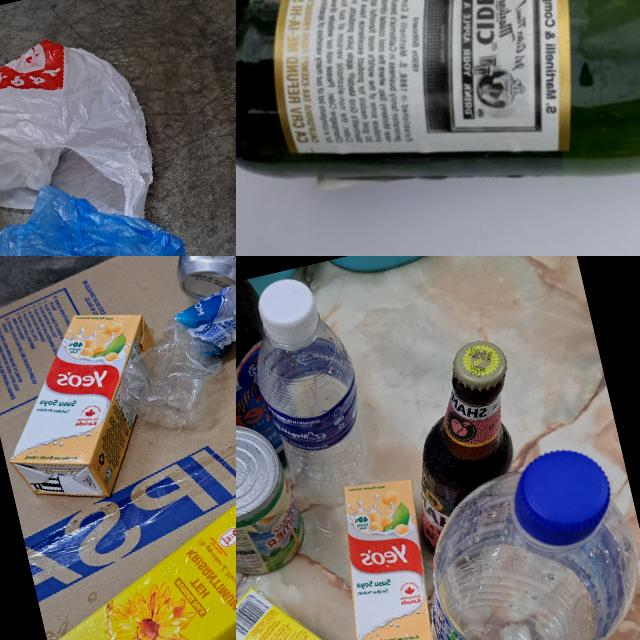caixinha: (0, 299, 182, 517), (27, 492, 236, 640), (315, 469, 451, 640), (236, 561, 402, 640)
garrafa de vidro: (236, 0, 640, 256), (378, 336, 538, 564), (236, 276, 302, 483)
garrafa plástica: (398, 455, 640, 640), (254, 324, 382, 526), (108, 268, 236, 440)
lata: (236, 414, 309, 585), (160, 256, 236, 305)
papelão: (0, 256, 236, 640)
sacola plástica: (0, 29, 171, 256), (0, 167, 227, 256)
tampa plástica: (506, 442, 616, 549), (256, 277, 324, 343)
